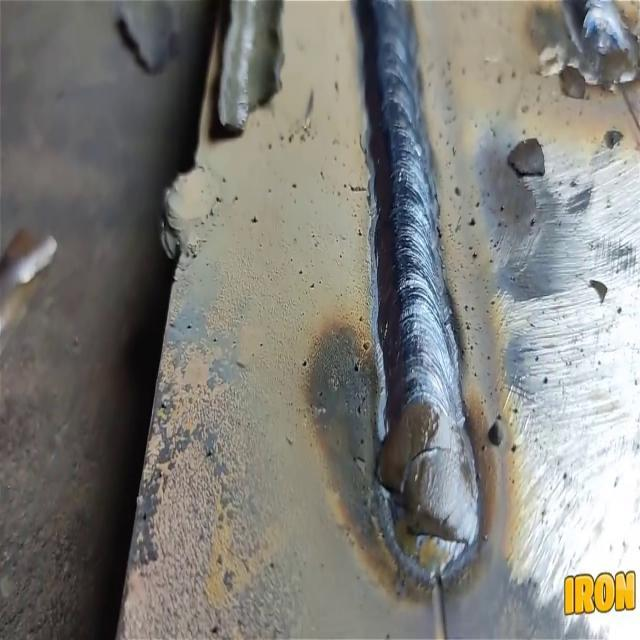Good Welding: (344, 0, 477, 416)
